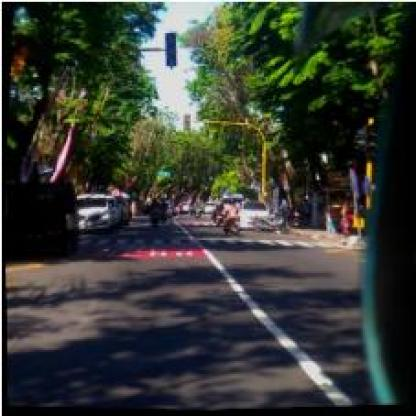yellow: (163, 33, 178, 66)
